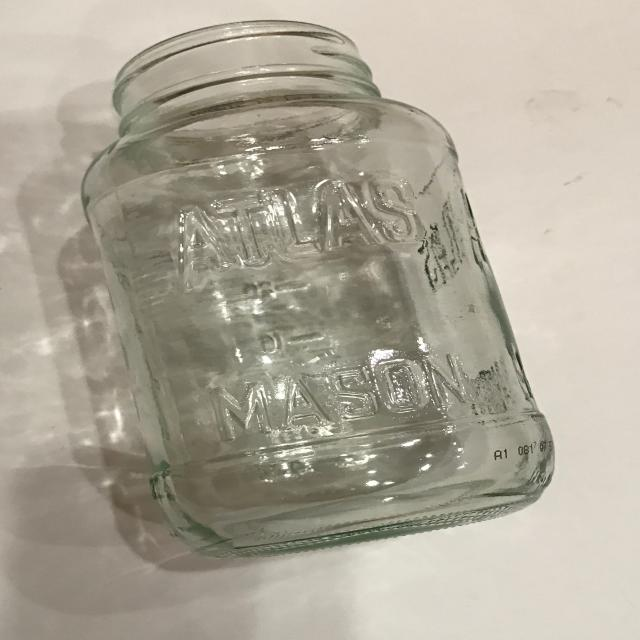glass: (79, 19, 556, 559)
